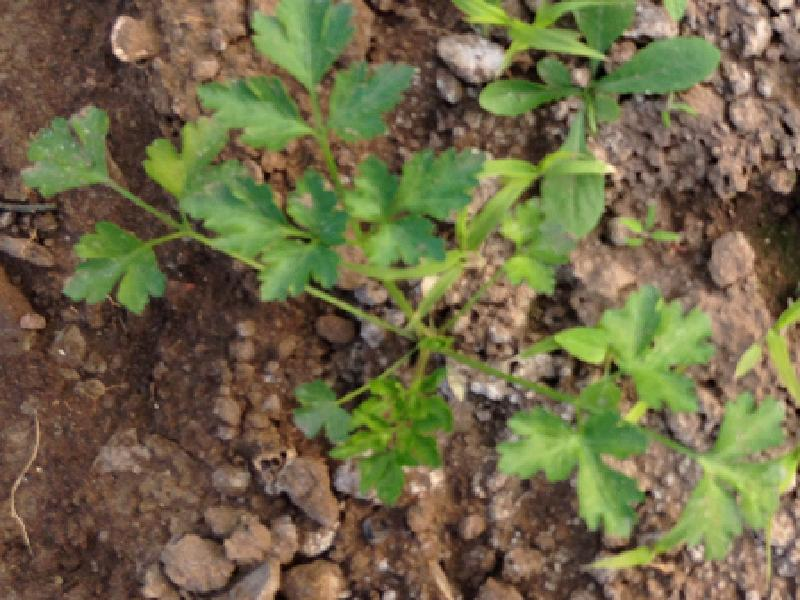radish: (0, 5, 789, 592)
